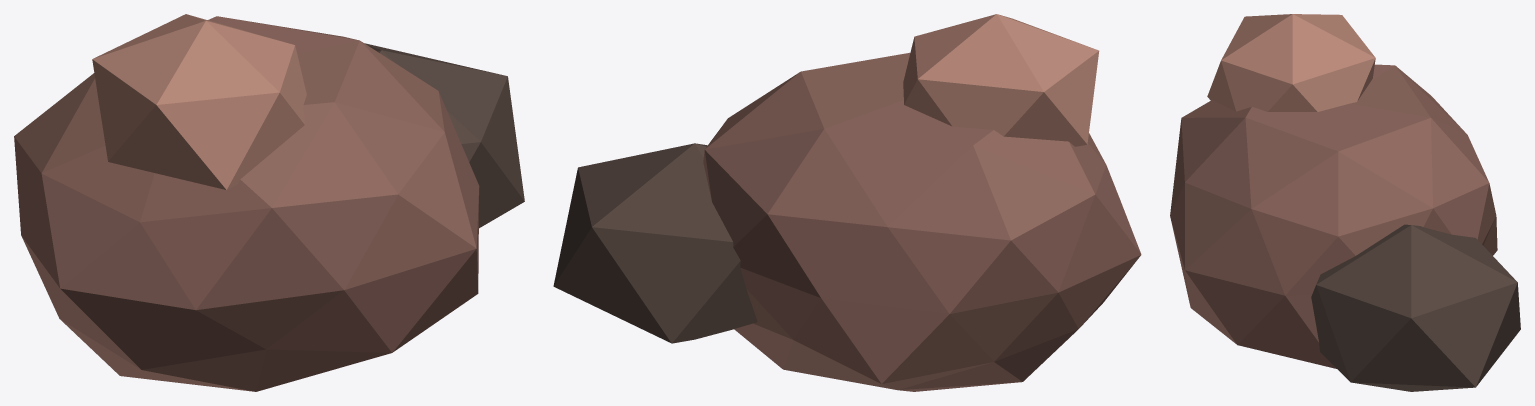
The model's file is granit_2.glb.
3 renders of one model, left to right at view 1: azimuth 30°, elevation 25°; view 2: azimuth 150°, elevation 25°; view 3: azimuth 270°, elevation 25°, orthographic. The views are drawn at different scales.
Visible parts, largest first — view 1: granit_2; view 2: granit_2; view 3: granit_2.
Boxes of the visible parts, x1,y1,x2,y2 form: granit_2: (14, 14, 524, 391); granit_2: (553, 14, 1141, 391); granit_2: (1170, 14, 1520, 391).
Size of the model in its own units: 5.26 by 3.83 by 3.85.
